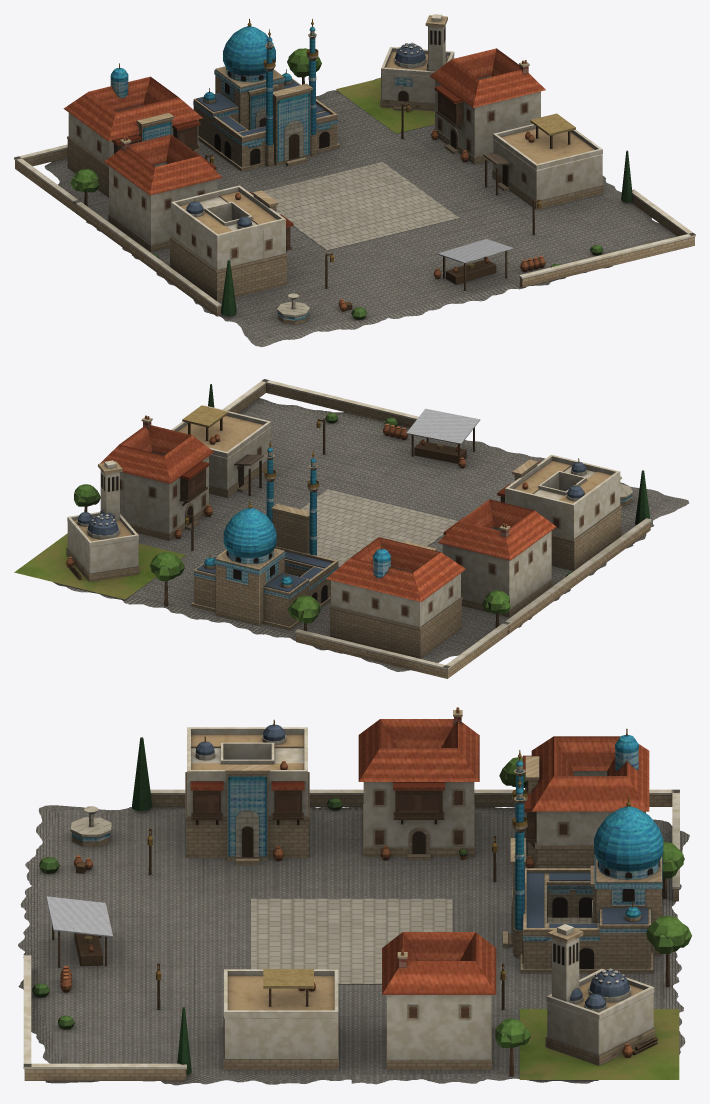
Rendered from gunpowder-town-small-b-levant.glb.
The picture shows the model from 3 angles, top to bottom: view 1: azimuth 30°, elevation 25°; view 2: azimuth 150°, elevation 25°; view 3: azimuth 270°, elevation 25°; orthographic projection. The views are drawn at different scales.
Visible parts, largest first — view 1: LOD0; view 2: LOD0; view 3: LOD0.
Boxes of the visible parts, x1=… form: LOD0: x1=14, y1=14, x2=695, y2=347; LOD0: x1=14, y1=379, x2=689, y2=678; LOD0: x1=18, y1=707, x2=691, y2=1085.
Size of what is drawn, in the model's own units: 4.02 by 1.2 by 4.06.
3 materials, 3 textured.
